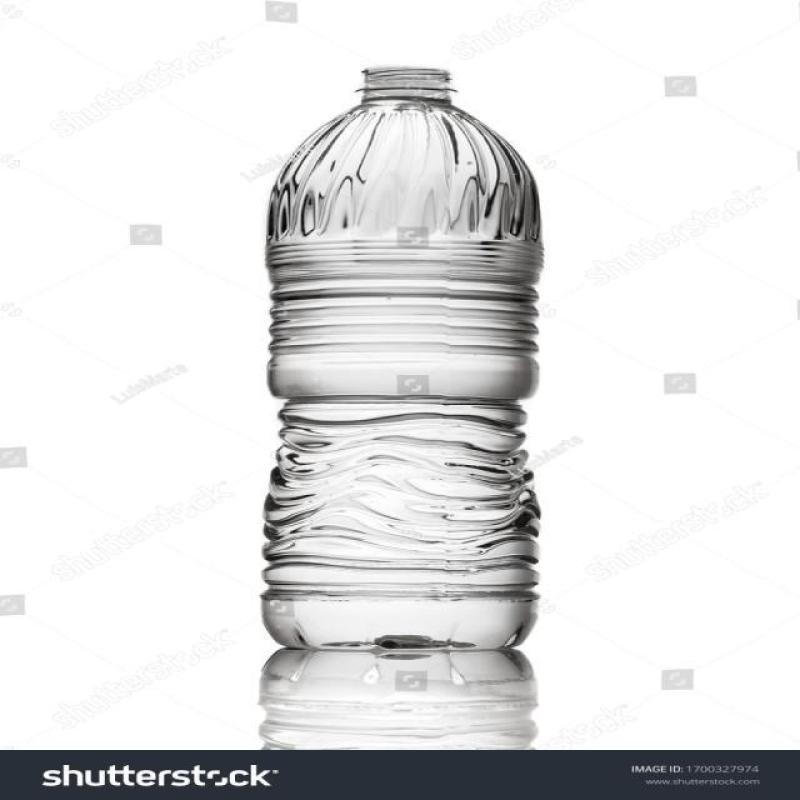botella: (261, 68, 545, 652)
